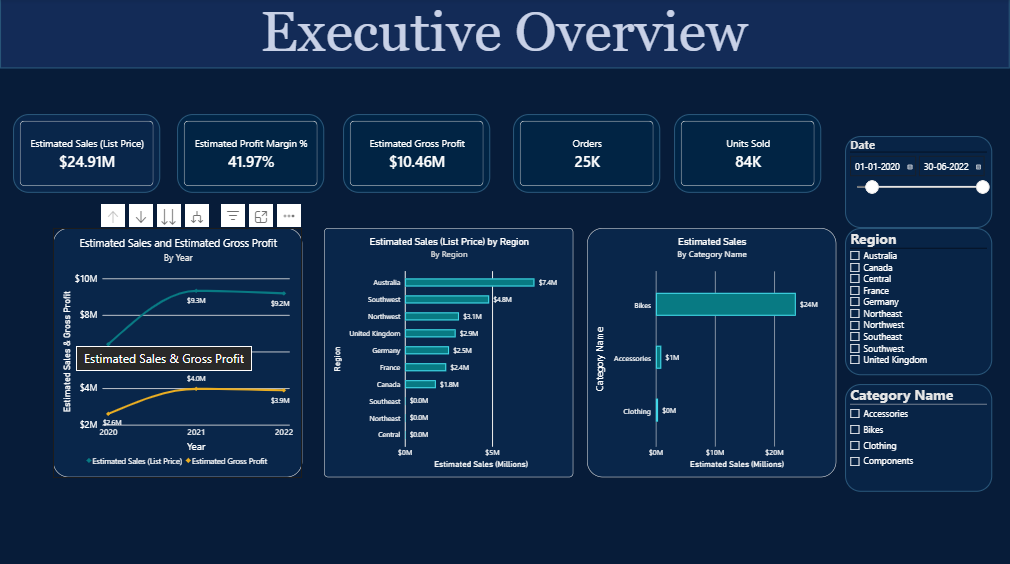

The page's visual inventory and layout, read from the dashboard file:
{"tool":"powerbi","page":{"name":"Page 1","canvas":[1920,1080],"ordinal":0},"visuals":[{"type":"cardVisual","fields":{"Data":["FactSales.Estimated Sales (List Price)"]},"box":[24,218,280,150],"z":0},{"type":"cardVisual","fields":{"Data":["FactSales.Estimated Gross Profit"]},"box":[652,218,280,150],"z":1000},{"type":"cardVisual","fields":{"Data":["FactSales.Estimated Profit Margin %"]},"box":[336,218,280,150],"z":2000},{"type":"cardVisual","fields":{"Data":["FactSales.Orders"]},"box":[976,218,280,150],"z":3000},{"type":"cardVisual","fields":{"Data":["FactSales.Units Sold"]},"box":[1282,218,280,150],"z":4000},{"type":"lineChart","title":"Estimated Sales and Estimated Gross Profit","fields":{"Category":["DimDate.YearMonth.Variation.Date Hierarchy.Year","DimDate.YearMonth.Variation.Date Hierarchy.Quarter","DimDate.YearMonth.Variation.Date Hierarchy.Month","DimDate.YearMonth.Variation.Date Hierarchy.Day"],"Y":["FactSales.Estimated Sales (List Price)","FactSales.Estimated Gross Profit"]},"box":[100,436,474,474],"z":5000},{"type":"clusteredBarChart","title":"Estimated Sales ","fields":{"Category":["DimProduct.CategoryName"],"Y":["FactSales.Estimated Sales (List Price)"]},"box":[1116,436,474,474],"z":6000},{"type":"clusteredBarChart","fields":{"Category":["DimTerritory.Region"],"Y":["FactSales.Estimated Sales (List Price)"]},"box":[616,436,474,474],"z":7000},{"type":"slicer","fields":{"Values":["DimDate.Date"]},"box":[1607.5,260,280,175],"z":8000},{"type":"slicer","fields":{"Values":["DimTerritory.Region"]},"box":[1607.5,435,280,280],"z":9000},{"type":"slicer","fields":{"Values":["DimProduct.CategoryName"]},"box":[1607.5,732.5,280,205],"z":10000},{"type":"textbox","box":[475,0,966,150],"z":11000},{"type":"shape","box":[0,0,1920,132],"z":12000}]}

Visuals, with their boxes in screenshot pixels (x1, y1, x2, y2), scaled from the page's 1920x1080 canvas onto the 1010x564 screenshot:
cardVisual - FactSales.Estimated Sales (List Price): bbox(13, 114, 160, 192)
cardVisual - FactSales.Estimated Gross Profit: bbox(343, 114, 490, 192)
cardVisual - FactSales.Estimated Profit Margin %: bbox(177, 114, 324, 192)
cardVisual - FactSales.Orders: bbox(513, 114, 661, 192)
cardVisual - FactSales.Units Sold: bbox(674, 114, 822, 192)
"Estimated Sales and Estimated Gross Profit" lineChart: bbox(53, 228, 302, 475)
"Estimated Sales " clusteredBarChart: bbox(587, 228, 836, 475)
clusteredBarChart - DimTerritory.Region x FactSales.Estimated Sales (List Price): bbox(324, 228, 573, 475)
slicer - DimDate.Date: bbox(846, 136, 993, 227)
slicer - DimTerritory.Region: bbox(846, 227, 993, 373)
slicer - DimProduct.CategoryName: bbox(846, 383, 993, 490)
textbox: bbox(250, 0, 758, 78)
shape: bbox(0, 0, 1009, 69)
